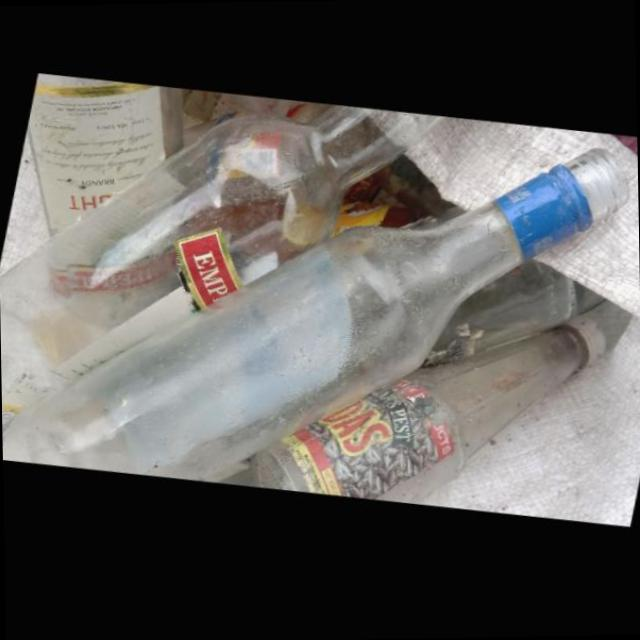chai_thuy_tinh: (2, 151, 621, 484), (0, 106, 435, 425), (245, 319, 601, 504)
